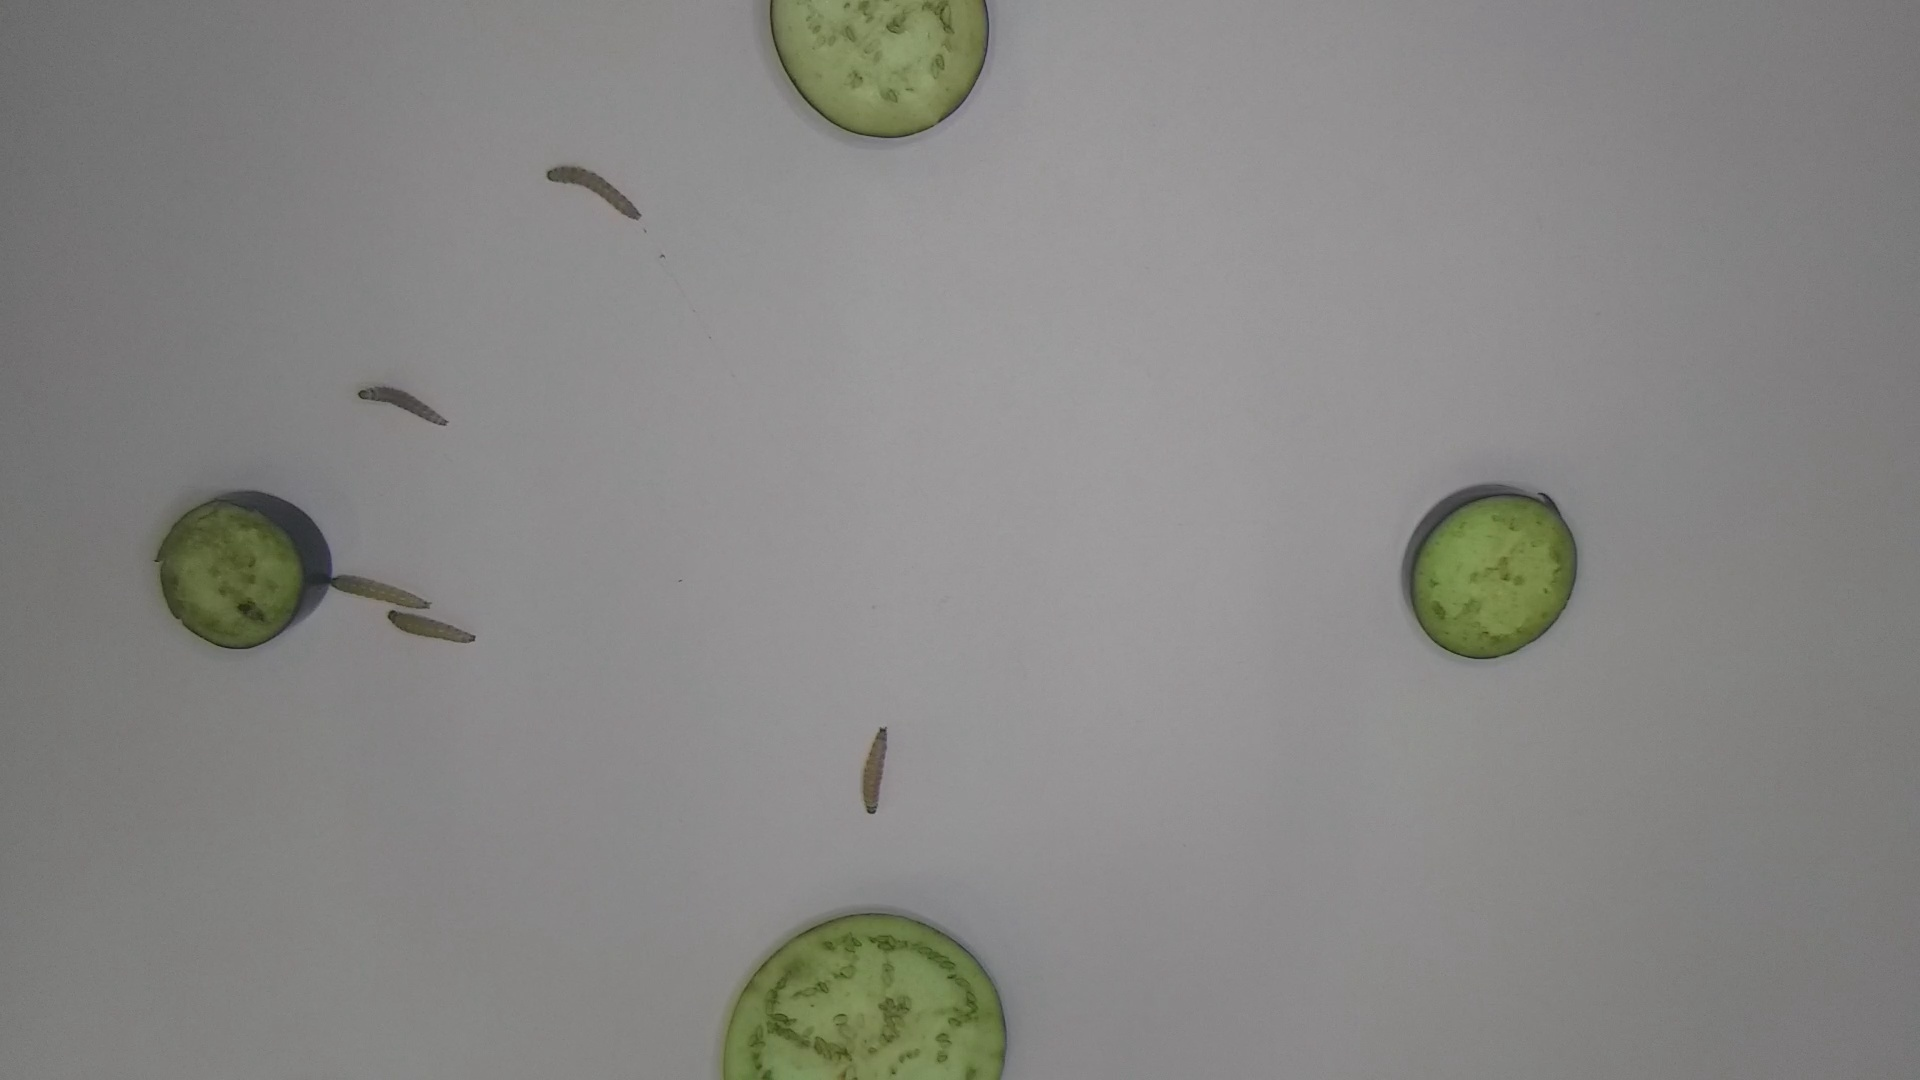efsb: (542, 160, 651, 227), (322, 572, 436, 615), (352, 385, 454, 431), (382, 607, 481, 647), (862, 720, 893, 819)
eggplant: (709, 907, 1015, 1080), (1389, 472, 1592, 665), (760, 1, 1004, 146), (152, 487, 339, 655)
